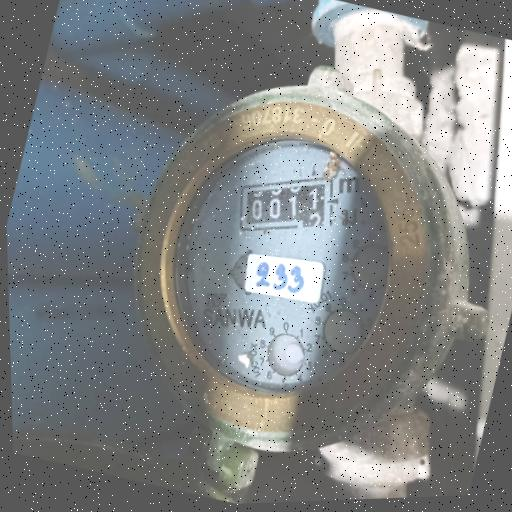0: (255, 181, 294, 227), (238, 184, 275, 229)
1: (292, 178, 335, 233), (276, 181, 312, 225)
border_water_meter_number: (222, 151, 346, 254)
